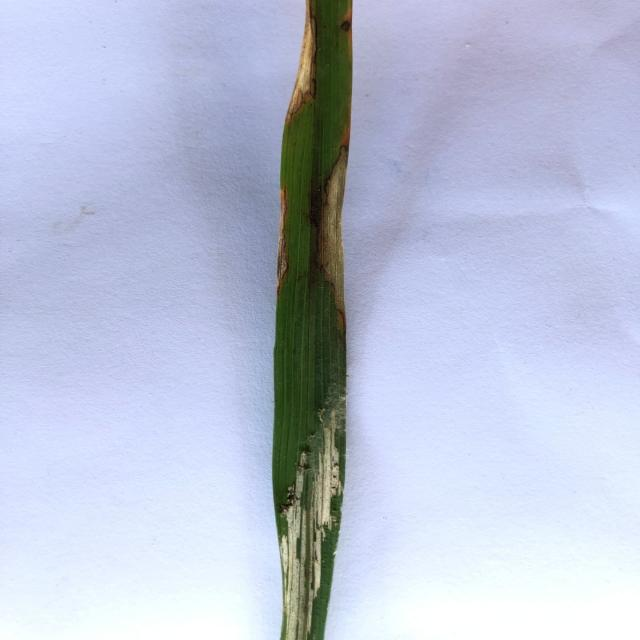Leaf Blight: (275, 332, 347, 640), (316, 6, 352, 324), (284, 0, 317, 122), (276, 186, 288, 282)
